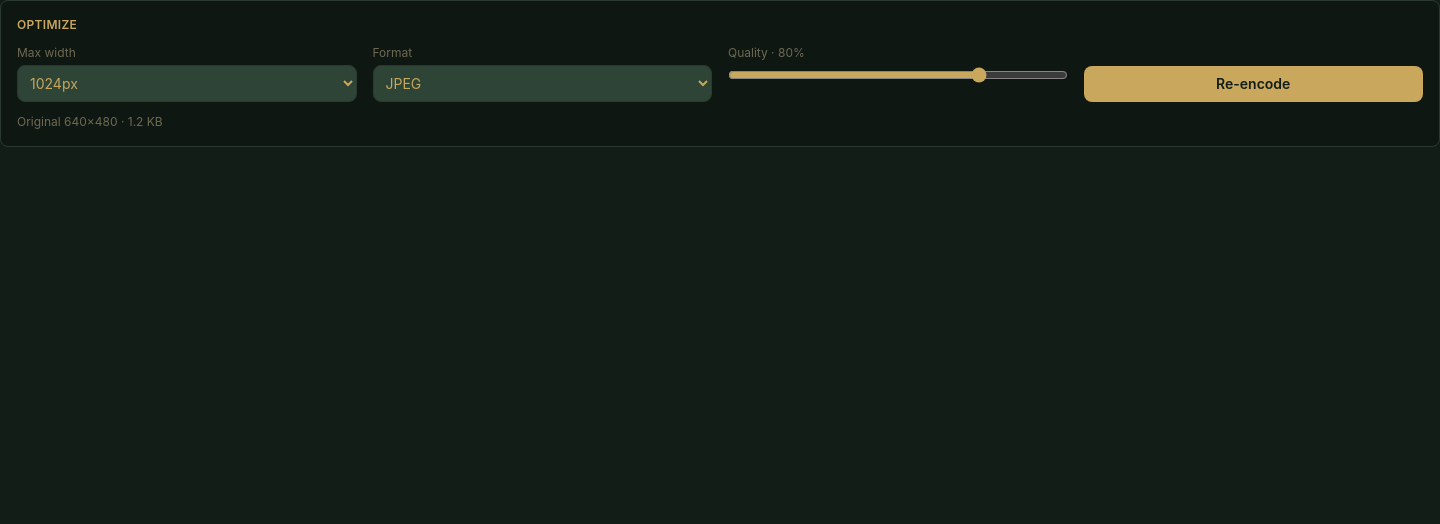
Test: ImageOptimizer › renders the optimized result with ExportBar after downscale resolves
Click the button "Re-encode" at (1253, 84), box [1084,66,1423,102]
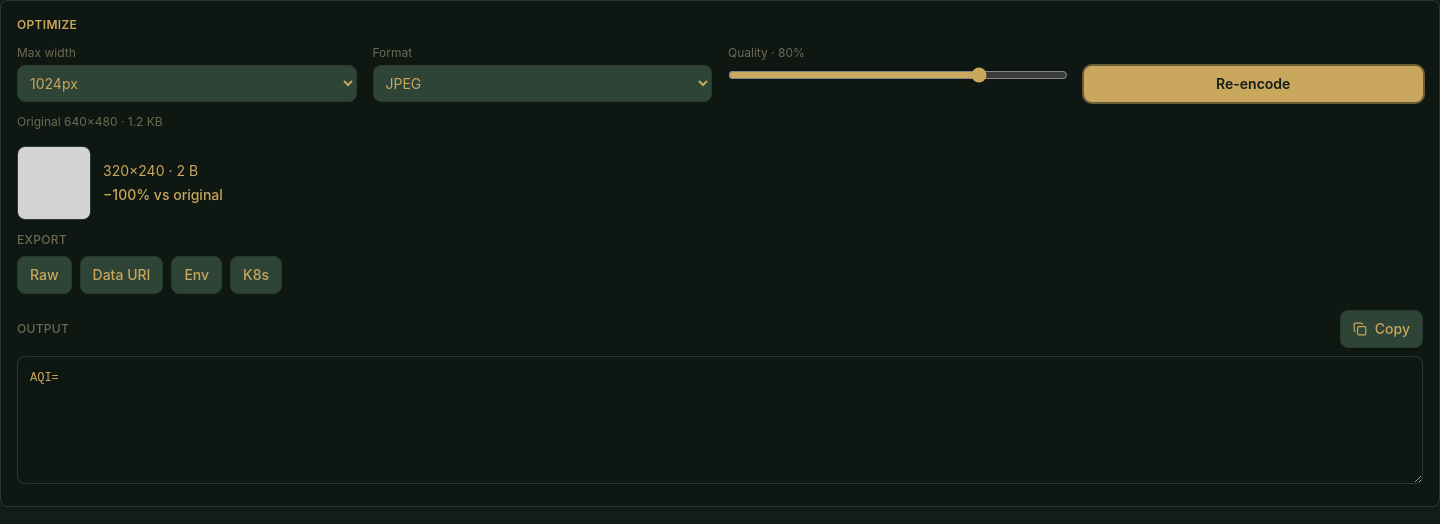
Check: the text "Output" is shown, box [17,321,69,337]
